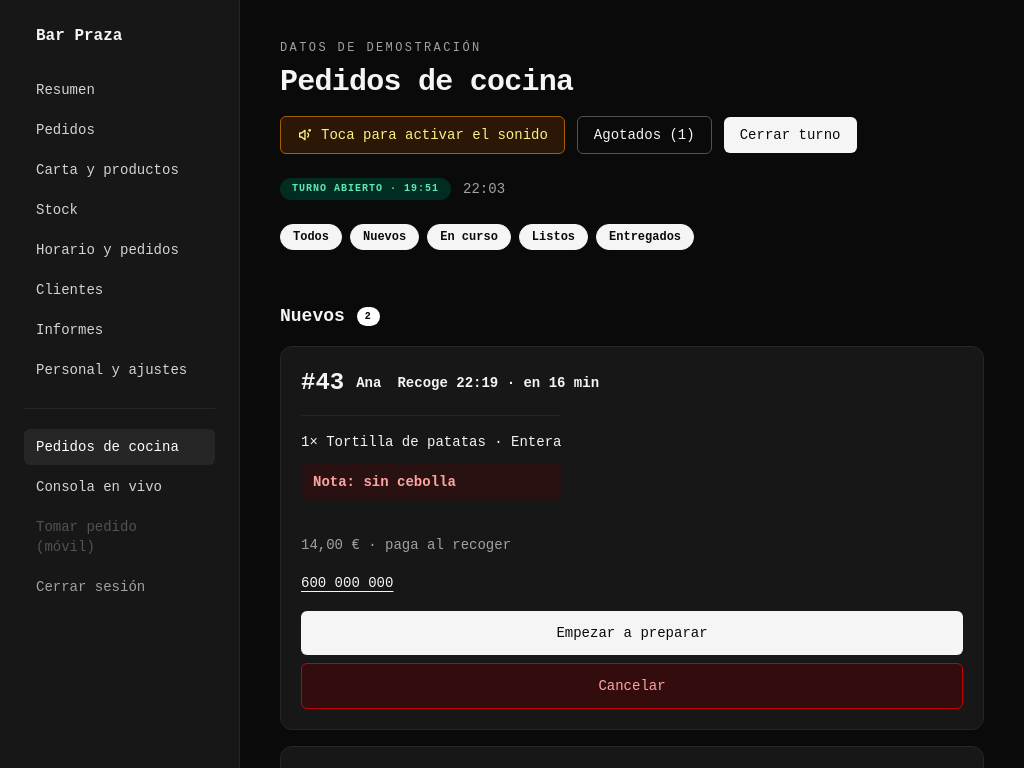
Test: Agotados pop-up › lists the sold-out products from the catalog
Click the button "Agotados (1)" at {"x": 644, "y": 135}, box [577,116,712,154]
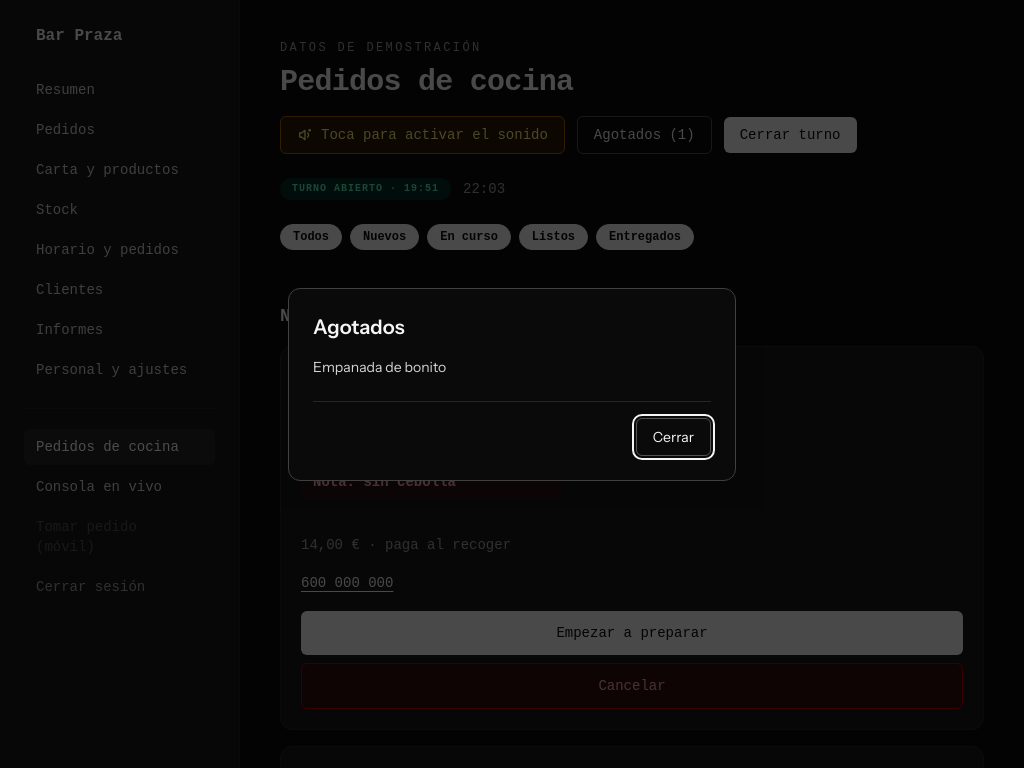
Expected: the list item "Empanada de bonito" is shown, [313,358,446,376]
